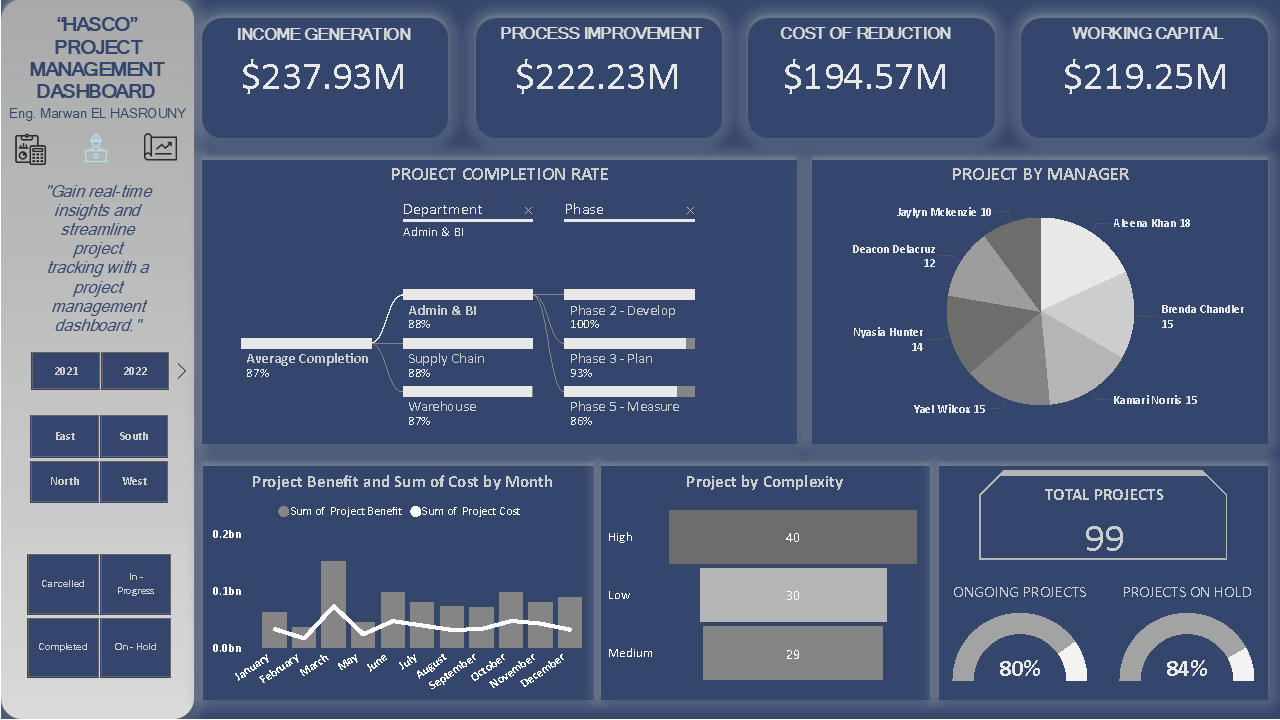

This screenshot's page, from the dashboard's own definition file:
{"tool":"powerbi","page":{"name":"Page 1","canvas":[1280,720],"ordinal":0},"visuals":[{"type":"cardVisual","fields":{"Data":["Project Management Dataset. Project Benefit "]},"box":[209.9,26.1,226.4,93.3],"z":0},{"type":"cardVisual","fields":{"Data":["Project Management Dataset. Project Benefit "]},"box":[484.4,26.1,226.4,93.3],"z":1000},{"type":"cardVisual","fields":{"Data":["Project Management Dataset. Project Benefit "]},"box":[752,26.1,226.4,93.3],"z":2000},{"type":"cardVisual","fields":{"Data":["Project Management Dataset. Project Benefit "]},"box":[1031.9,26.1,226.4,93.3],"z":3000},{"type":"decompositionTreeVisual","title":"PROJECT COMPLETION RATE","fields":{"Analyze":["Project Management Dataset.Completion%"],"ExplainBy":["Project Management Dataset.Department","Project Management Dataset.Phase"]},"box":[210,163,578,280],"z":4000},{"type":"pieChart","title":"PROJECT BY MANAGER","fields":{"Category":["Project Management Dataset.Project Manager"],"Y":["Project Management Dataset.Project Type"]},"box":[814,163,451,277],"z":5000},{"type":"lineClusteredColumnComboChart","title":"Project Benefit and Sum of Cost by Month","fields":{"Category":["Project Management Dataset.End Date.Variation.Date Hierarchy.Month"],"Y2":["Project Management Dataset. Project Cost "],"Y":["Project Management Dataset. Project Benefit "]},"box":[205.8,470.7,392.5,240.1],"z":6000},{"type":"funnel","title":"Project by Complexity","fields":{"Category":["Project Management Dataset.Complexity"],"Y":["Project Management Dataset.Project Name"]},"box":[601.6,470.9,324.4,226.4],"z":7000},{"type":"cardVisual","fields":{"Data":["Project Management Dataset.Project Name"]},"box":[974.5,466,257.8,99.3],"z":8000},{"type":"gauge","fields":{"Y":["Project Management Dataset.Completion%"]},"box":[946.6,583.5,144,110.2],"z":9000},{"type":"gauge","fields":{"Y":["Project Management Dataset.Completion%"]},"box":[1113.7,583.5,144,110.2],"z":10000},{"type":"slicer","fields":{"Values":["Project Management Dataset.Year"]},"box":[4.8,346.2,187.6,50.8],"z":11000},{"type":"slicer","fields":{"Values":["Project Management Dataset.Region"]},"box":[3.6,409.1,187.6,100.5],"z":12000},{"type":"slicer","fields":{"Values":["Project Management Dataset.Status"]},"box":[1.2,548.4,192.5,136.8],"z":13000}]}

Visuals, with their boxes in screenshot pixels (x1, y1, x2, y2), scaled from the page's 1280x720 canvas onto the 1280x720 screenshot:
cardVisual - Project Management Dataset. Project Benefit : pyautogui.locateOnScreen(210, 26, 436, 119)
cardVisual - Project Management Dataset. Project Benefit : pyautogui.locateOnScreen(484, 26, 711, 119)
cardVisual - Project Management Dataset. Project Benefit : pyautogui.locateOnScreen(752, 26, 978, 119)
cardVisual - Project Management Dataset. Project Benefit : pyautogui.locateOnScreen(1032, 26, 1258, 119)
"PROJECT COMPLETION RATE" decompositionTreeVisual: pyautogui.locateOnScreen(210, 163, 788, 443)
"PROJECT BY MANAGER" pieChart: pyautogui.locateOnScreen(814, 163, 1265, 440)
"Project Benefit and Sum of Cost by Month" lineClusteredColumnComboChart: pyautogui.locateOnScreen(206, 471, 598, 711)
"Project by Complexity" funnel: pyautogui.locateOnScreen(602, 471, 926, 697)
cardVisual - Project Management Dataset.Project Name: pyautogui.locateOnScreen(974, 466, 1232, 565)
gauge - Project Management Dataset.Completion%: pyautogui.locateOnScreen(947, 584, 1091, 694)
gauge - Project Management Dataset.Completion%: pyautogui.locateOnScreen(1114, 584, 1258, 694)
slicer - Project Management Dataset.Year: pyautogui.locateOnScreen(5, 346, 192, 397)
slicer - Project Management Dataset.Region: pyautogui.locateOnScreen(4, 409, 191, 510)
slicer - Project Management Dataset.Status: pyautogui.locateOnScreen(1, 548, 194, 685)
